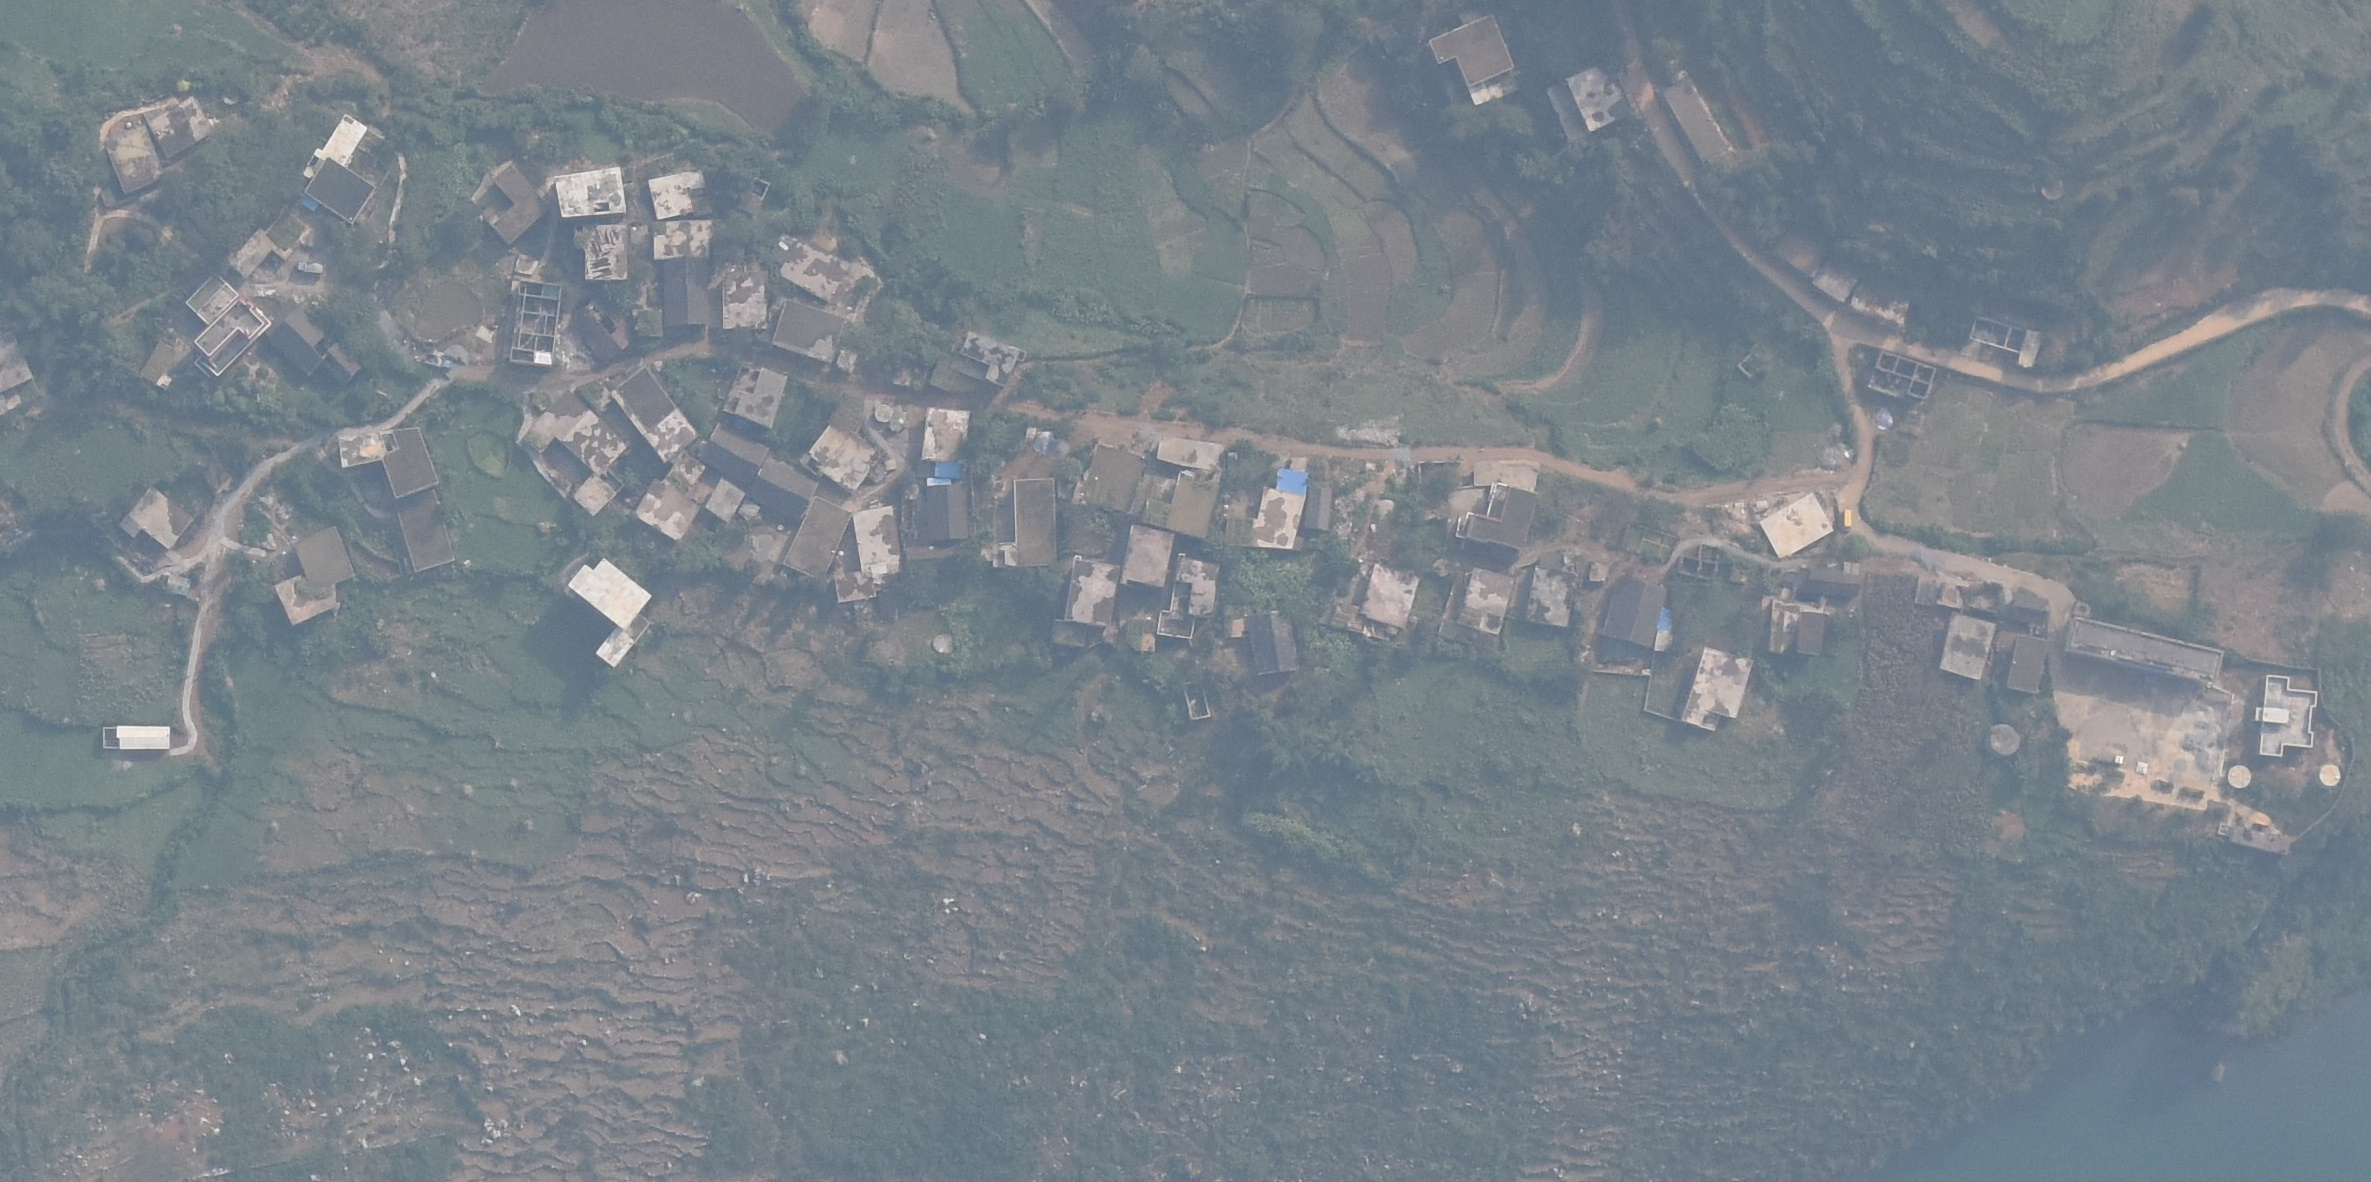building: (1769, 223, 1912, 325), (2063, 606, 2225, 683), (517, 391, 627, 504), (180, 270, 270, 377), (567, 557, 654, 666), (1246, 461, 1338, 562), (303, 112, 384, 221), (264, 303, 363, 388), (278, 523, 357, 628), (607, 369, 702, 456), (629, 448, 710, 542), (334, 426, 444, 495), (1657, 72, 1740, 161), (2250, 669, 2325, 761), (1681, 645, 1757, 734), (1425, 12, 1515, 86), (1744, 491, 1843, 558), (782, 497, 858, 583), (485, 159, 552, 251), (1000, 475, 1060, 574), (509, 275, 568, 374), (1603, 571, 1669, 658), (1452, 481, 1543, 544), (778, 231, 857, 302), (114, 483, 195, 552), (388, 499, 462, 574), (1145, 469, 1214, 548), (718, 354, 793, 426), (809, 416, 875, 494), (1862, 344, 1937, 409), (777, 295, 845, 365), (1358, 558, 1426, 628), (145, 96, 218, 161), (1067, 549, 1123, 633), (957, 326, 1030, 388), (850, 508, 913, 579), (1558, 66, 1630, 128), (660, 254, 715, 335), (702, 417, 769, 483), (572, 296, 640, 359), (1244, 608, 1307, 676), (101, 128, 165, 194), (1969, 312, 2041, 370), (915, 401, 982, 463), (555, 164, 629, 220), (1941, 609, 1994, 685), (752, 458, 816, 520), (1461, 564, 1514, 637), (1121, 518, 1177, 586), (921, 480, 978, 546), (648, 167, 723, 217), (578, 221, 634, 285), (1170, 552, 1222, 620), (723, 268, 773, 334), (2215, 814, 2295, 855), (1528, 564, 1575, 629), (2007, 631, 2050, 696), (95, 724, 178, 756), (1157, 433, 1228, 468), (1800, 563, 1863, 602), (828, 568, 885, 609), (235, 224, 278, 275), (1789, 609, 1835, 656), (706, 477, 745, 528), (2007, 582, 2048, 628)
well: (1991, 719, 2025, 759), (2312, 761, 2343, 786), (2226, 765, 2257, 788), (872, 400, 894, 425)
